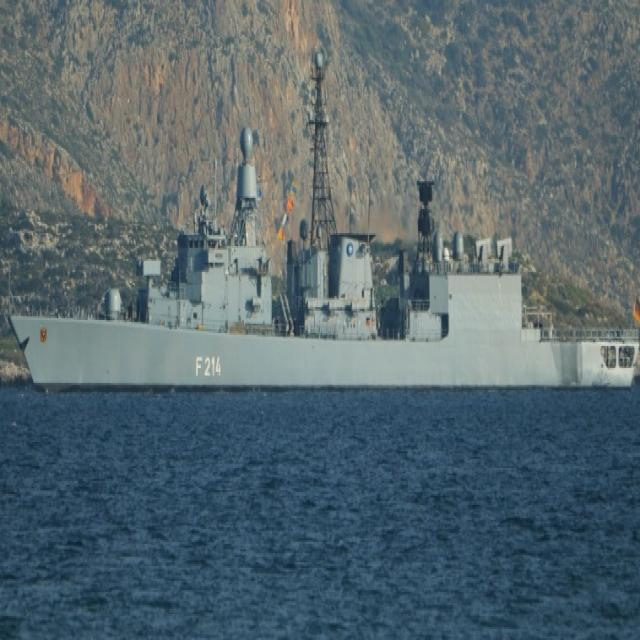Fragata: (6, 49, 640, 399)
